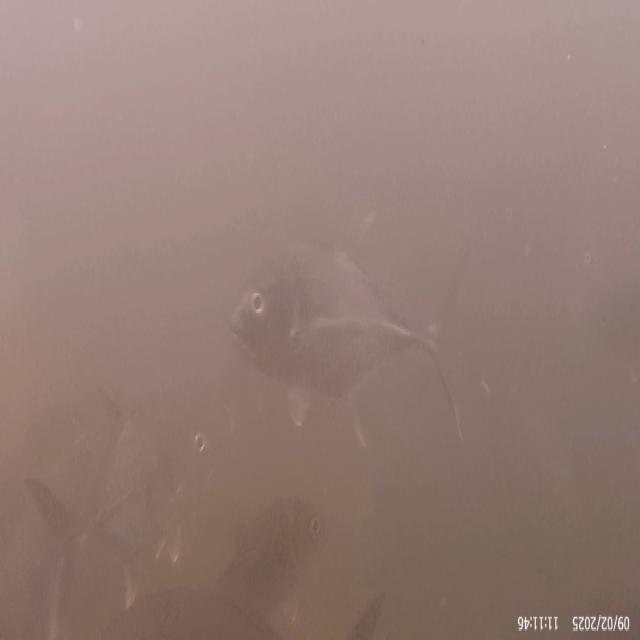ikan: (215, 225, 457, 420)
